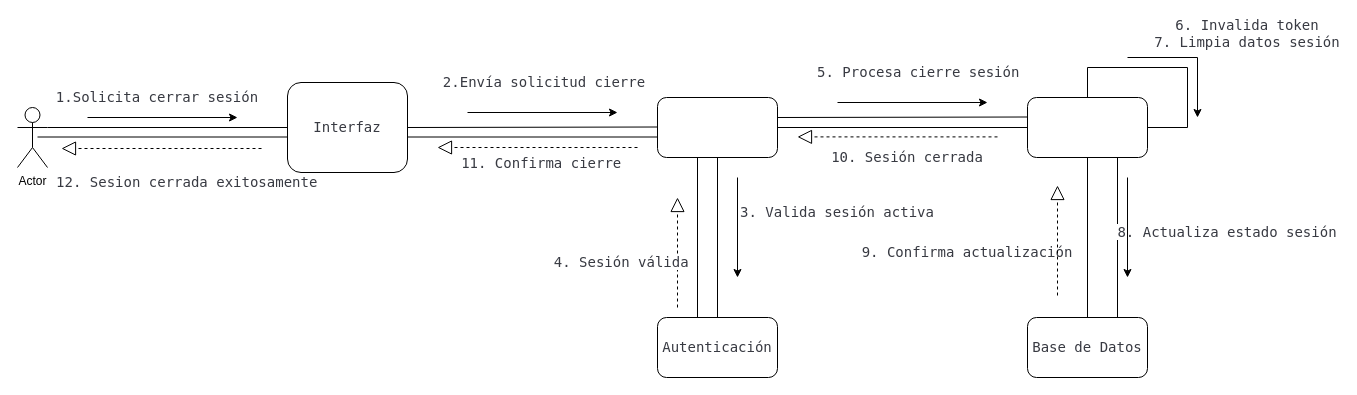
Some shapes in this 1357 by 395 pixel diagram are drawn without their labels. The centre of each missing label's shape, as x and y in pixels:
"Servicio Solicitudes" goes at (x=1087, y=127).
"Servidor" goes at (x=717, y=127).
